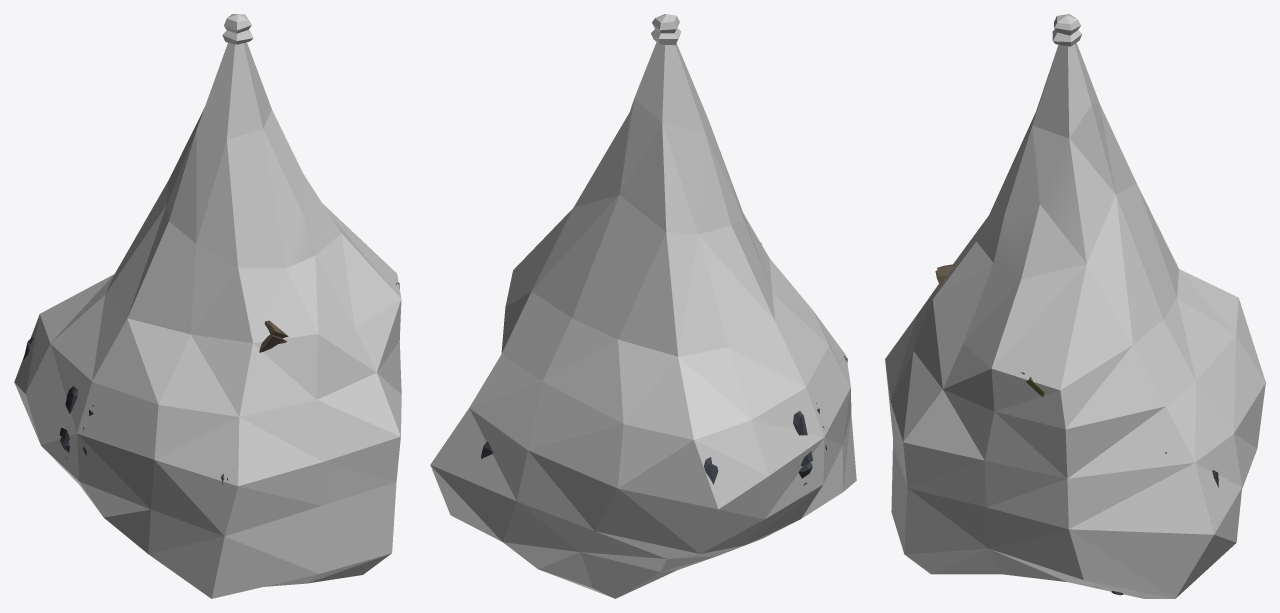
File: SM_Prop_Net_04.fbx
3 views of the same model, side by side, from view 1: azimuth 30°, elevation 25°; view 2: azimuth 150°, elevation 25°; view 3: azimuth 270°, elevation 25° (orthographic).
Visible parts, largest first — view 1: SM_Prop_Net_04; view 2: SM_Prop_Net_04; view 3: SM_Prop_Net_04.
Boxes of the visible parts, bbox=[...] form: SM_Prop_Net_04: bbox=[14, 14, 401, 598]; SM_Prop_Net_04: bbox=[430, 14, 856, 598]; SM_Prop_Net_04: bbox=[885, 14, 1265, 598].
Bounding box in the file's own units: 188 × 304 × 191.
